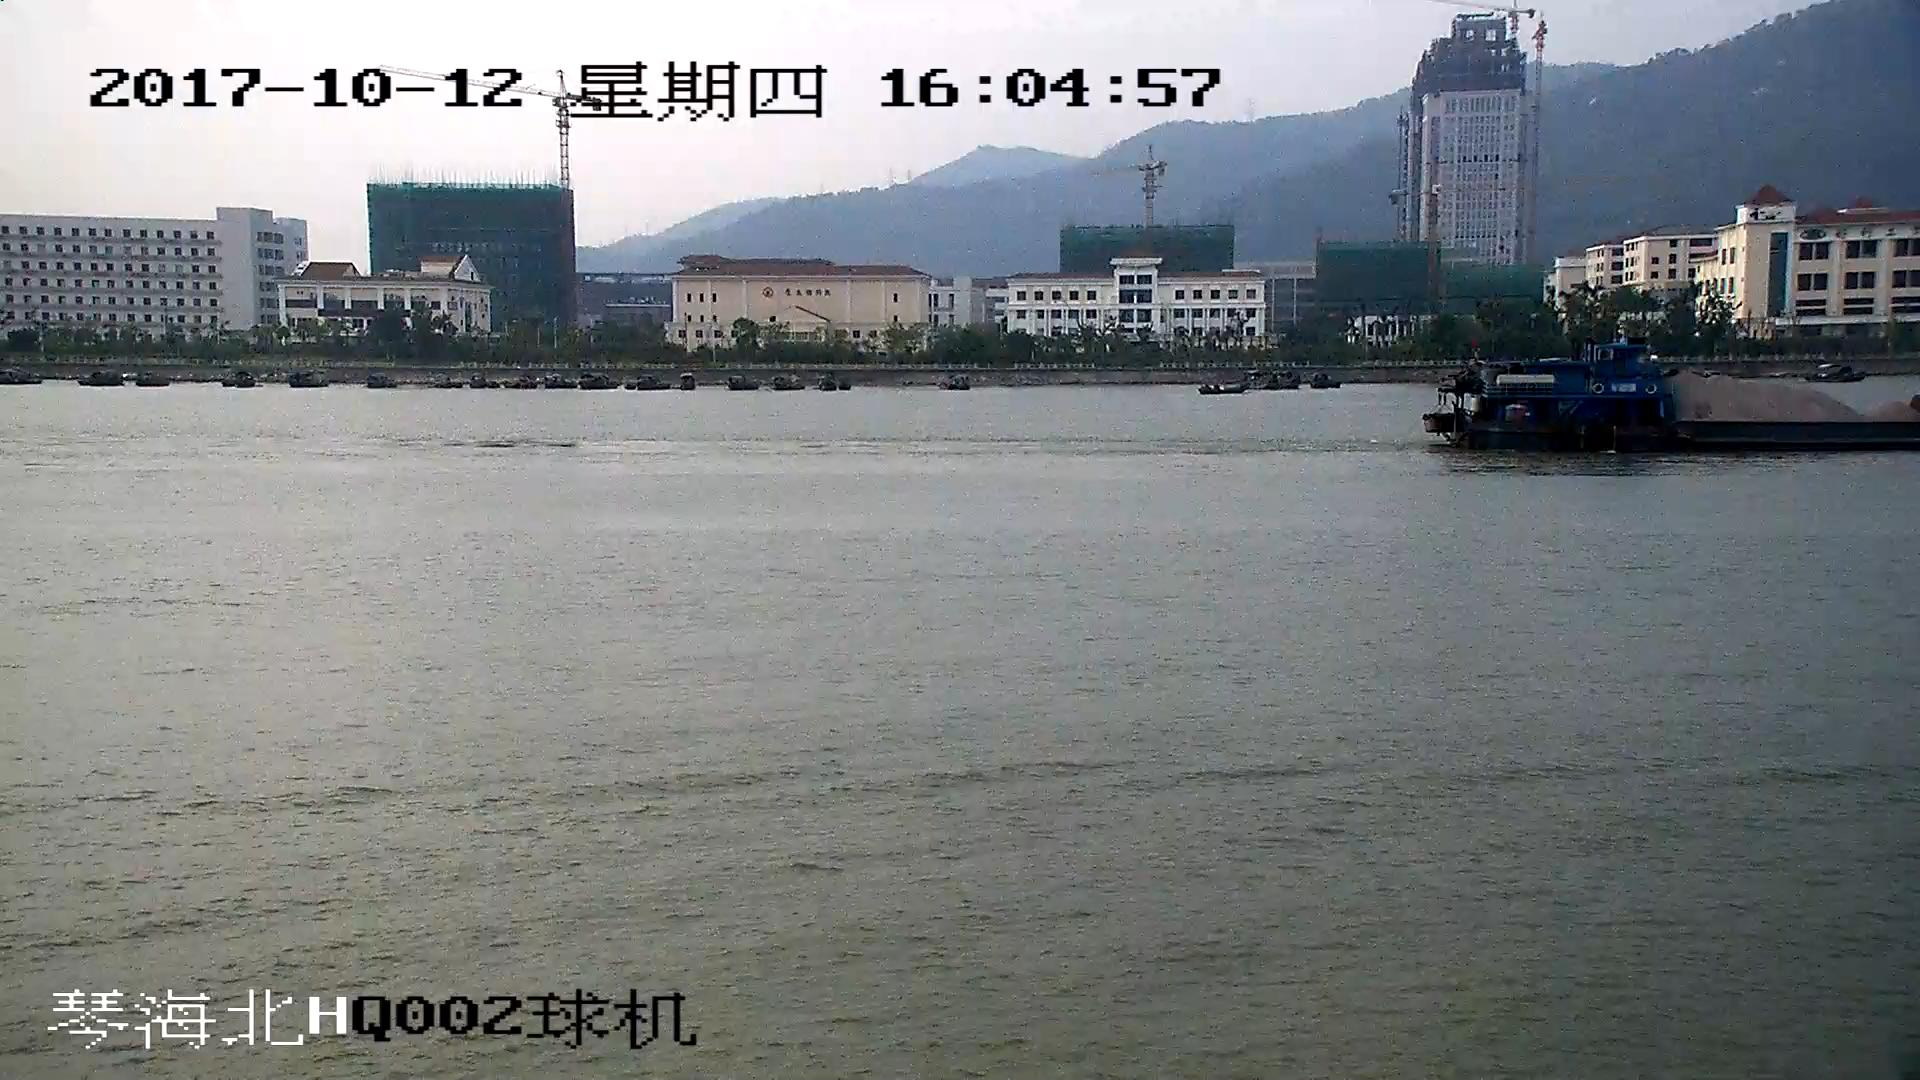ore carrier: (1428, 343, 1920, 455)
